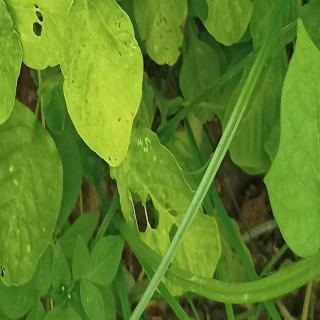kekurangan_mangan: (142, 12, 189, 58)
